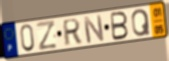0: (20, 24, 36, 53)
B: (110, 11, 130, 42)
N: (82, 14, 106, 45)
Q: (131, 8, 152, 38)
R: (63, 17, 83, 48)
Z: (35, 19, 58, 52)
